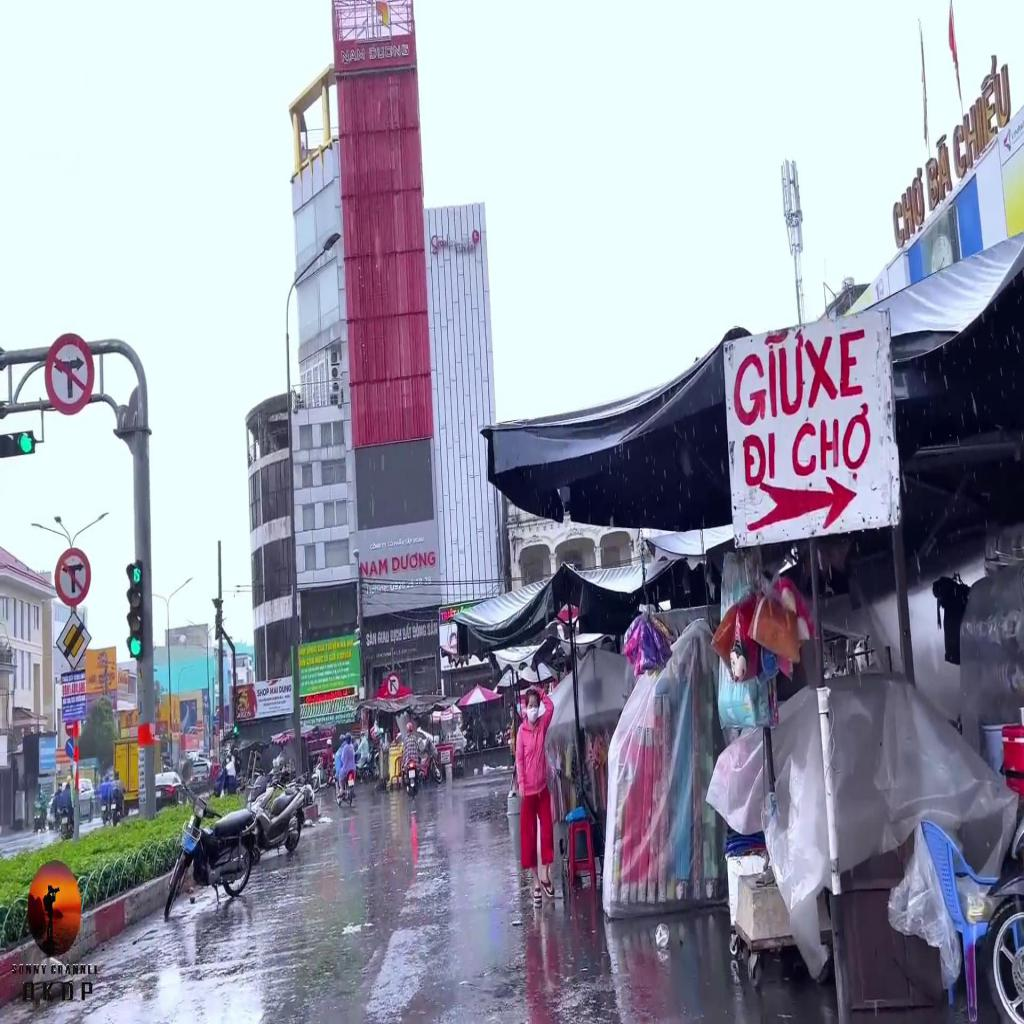cam_re_phai: (387, 672, 400, 696)
cam_re_trai_va_phai: (45, 333, 94, 414), (54, 547, 91, 606)
cam_xe_di_nguoc_chieu: (65, 722, 73, 736)
duong_het_uu_tien: (56, 610, 91, 670)
huong_phai_di_vuot_chuong_ngai_vat_phai: (66, 738, 73, 758)
